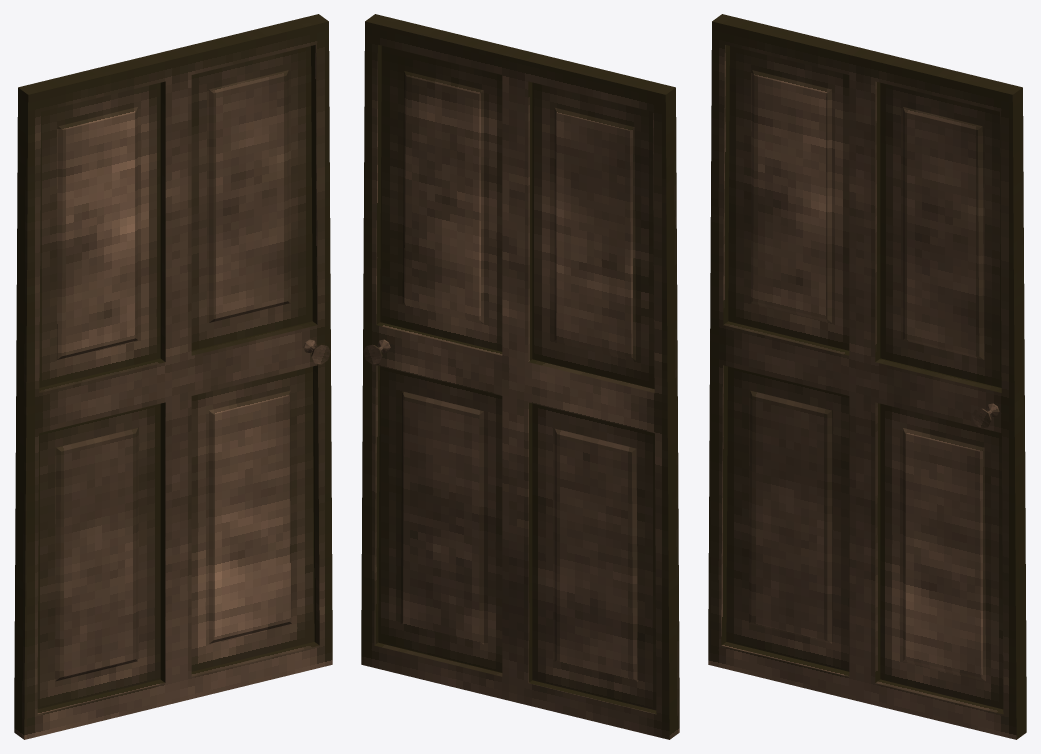
The model's file is Door.glb.
3 renders of one model, left to right at view 1: azimuth 30°, elevation 25°; view 2: azimuth 150°, elevation 25°; view 3: azimuth 330°, elevation 25°, orthographic.
Visible parts, largest first — view 1: Door; view 2: Door; view 3: Door.
Part boxes in pixels (x1,y1,x2,y2): Door: [14, 14, 332, 739]; Door: [361, 14, 679, 739]; Door: [708, 14, 1026, 739].
Bounding box in the file's own units: 1.05 × 2.09 × 0.1995.
1 material, 1 textured.
